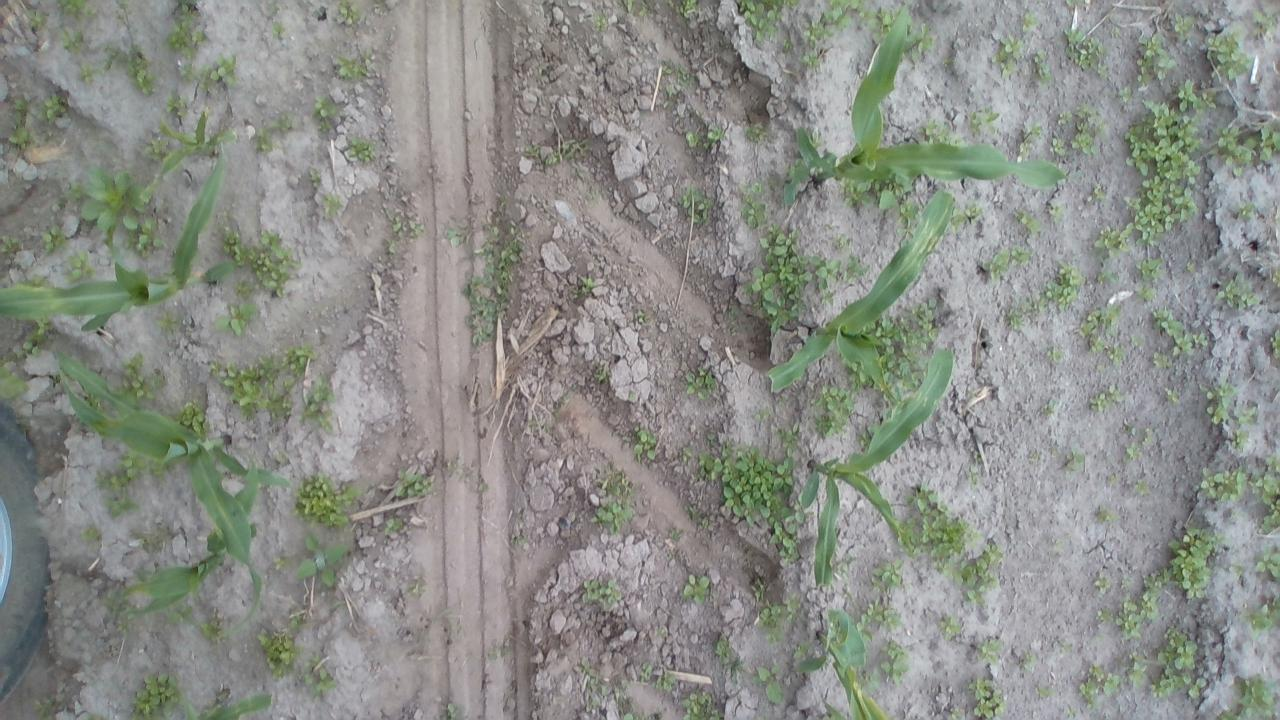Maize: (50, 346, 288, 640), (781, 3, 1062, 202), (2, 156, 230, 332), (764, 188, 955, 395), (796, 342, 953, 590), (117, 460, 257, 616), (798, 602, 888, 717), (150, 108, 236, 184), (191, 690, 275, 720)
Weeds: (693, 428, 806, 569), (1118, 518, 1226, 641), (1122, 74, 1200, 244), (461, 187, 522, 348), (744, 228, 840, 330), (209, 342, 318, 426), (900, 478, 986, 570), (220, 221, 296, 304), (996, 258, 1080, 330), (874, 299, 938, 377), (76, 163, 146, 233), (1146, 627, 1212, 700), (292, 471, 362, 527), (91, 450, 148, 517), (802, 0, 882, 45), (1218, 119, 1278, 179), (295, 535, 354, 589), (1078, 298, 1126, 364), (750, 594, 804, 650), (1148, 306, 1208, 356), (957, 538, 1001, 606), (845, 180, 917, 220), (1216, 675, 1280, 720), (260, 611, 302, 677), (1206, 18, 1248, 84), (572, 658, 622, 712), (736, 0, 800, 40), (128, 672, 182, 719), (1136, 30, 1182, 84), (810, 385, 856, 438), (1196, 375, 1241, 427), (878, 636, 921, 686), (1249, 467, 1280, 536), (304, 371, 339, 432), (1218, 270, 1264, 312), (1078, 664, 1122, 707), (1236, 593, 1280, 634), (1198, 465, 1246, 502), (126, 42, 157, 99), (122, 351, 156, 402), (302, 648, 338, 696), (1071, 104, 1107, 152), (858, 600, 906, 636), (978, 249, 1033, 280), (1060, 24, 1100, 66), (199, 53, 238, 96), (969, 678, 1008, 720), (170, 16, 208, 58), (578, 576, 620, 612), (120, 222, 163, 257), (590, 500, 634, 534), (0, 360, 35, 402), (1094, 226, 1134, 262), (679, 183, 714, 224), (216, 304, 258, 338), (393, 466, 437, 498), (19, 322, 54, 361), (757, 660, 788, 704), (685, 365, 720, 403), (997, 32, 1025, 78), (679, 690, 721, 720), (744, 178, 769, 228), (386, 209, 426, 240), (919, 120, 966, 146), (679, 572, 712, 606), (972, 635, 1008, 666), (130, 527, 172, 553), (336, 50, 372, 80), (598, 464, 636, 492), (41, 222, 74, 254), (63, 253, 99, 282), (723, 299, 750, 337), (632, 430, 662, 464), (870, 556, 904, 586), (1123, 647, 1148, 687), (1088, 384, 1122, 412), (179, 398, 206, 431), (778, 420, 805, 452), (348, 136, 378, 164), (1016, 124, 1042, 156), (664, 84, 688, 118), (969, 108, 998, 136), (1254, 10, 1278, 42), (42, 87, 66, 119), (714, 633, 741, 661), (842, 254, 868, 283), (138, 137, 172, 159), (844, 363, 870, 391), (912, 19, 934, 51), (320, 188, 345, 216), (1136, 259, 1166, 282), (950, 202, 981, 224), (1170, 14, 1196, 40), (34, 694, 60, 720), (164, 86, 188, 114), (1256, 552, 1280, 580), (1013, 207, 1039, 232), (61, 30, 86, 56), (1032, 46, 1050, 81), (936, 613, 961, 638), (6, 124, 32, 148), (666, 0, 698, 19), (100, 43, 120, 73), (830, 552, 854, 577), (1018, 648, 1042, 673), (446, 227, 467, 255), (703, 122, 724, 150), (656, 666, 678, 692), (312, 96, 338, 118), (1232, 426, 1253, 453), (158, 308, 178, 336), (1127, 324, 1148, 350), (254, 128, 276, 152), (269, 114, 295, 134), (55, 0, 89, 15), (1061, 449, 1083, 472), (177, 60, 200, 82), (78, 523, 102, 544), (0, 234, 22, 256), (590, 8, 610, 31), (338, 0, 361, 20), (1235, 200, 1255, 222), (1268, 326, 1280, 362), (1052, 636, 1076, 654), (1092, 271, 1120, 286), (383, 518, 403, 539), (78, 64, 98, 84), (790, 640, 810, 660), (28, 11, 49, 30), (755, 406, 777, 424), (1104, 22, 1126, 40), (170, 606, 194, 622), (1124, 439, 1144, 458), (1236, 406, 1256, 425), (578, 275, 598, 294), (1088, 186, 1107, 206), (1094, 506, 1115, 524), (10, 98, 31, 116), (1044, 206, 1068, 221), (1134, 285, 1156, 301), (200, 620, 219, 638), (1032, 682, 1051, 700), (1143, 428, 1161, 447), (1047, 134, 1064, 154), (1093, 571, 1110, 591), (1045, 346, 1066, 362), (636, 664, 652, 685), (68, 181, 83, 203), (746, 123, 764, 141), (1152, 351, 1172, 367), (595, 365, 610, 386), (1164, 387, 1182, 404), (752, 578, 769, 596), (152, 367, 167, 387), (1263, 453, 1280, 470), (684, 130, 700, 148), (273, 18, 288, 37), (1116, 84, 1130, 104), (800, 53, 819, 67), (1120, 418, 1136, 434), (966, 466, 982, 482), (310, 169, 325, 186), (1022, 10, 1036, 28), (544, 150, 562, 164), (1228, 562, 1246, 576), (652, 623, 668, 638), (833, 236, 849, 251), (273, 555, 287, 571), (678, 64, 691, 80), (408, 580, 421, 596), (1096, 607, 1110, 621), (1042, 396, 1056, 410), (522, 144, 537, 157), (661, 61, 676, 74), (150, 458, 162, 474), (1104, 470, 1118, 483), (950, 707, 964, 720), (1056, 111, 1070, 124), (669, 528, 684, 540), (318, 121, 330, 135), (1134, 480, 1148, 492), (782, 38, 792, 54), (1050, 538, 1066, 548), (445, 703, 457, 716), (637, 310, 650, 322), (680, 444, 690, 459), (620, 1, 636, 10), (1026, 450, 1040, 460), (1066, 0, 1083, 8), (777, 395, 789, 406), (1096, 66, 1107, 78), (1185, 262, 1198, 272), (1068, 704, 1078, 716), (621, 712, 635, 720), (1050, 444, 1058, 454)
